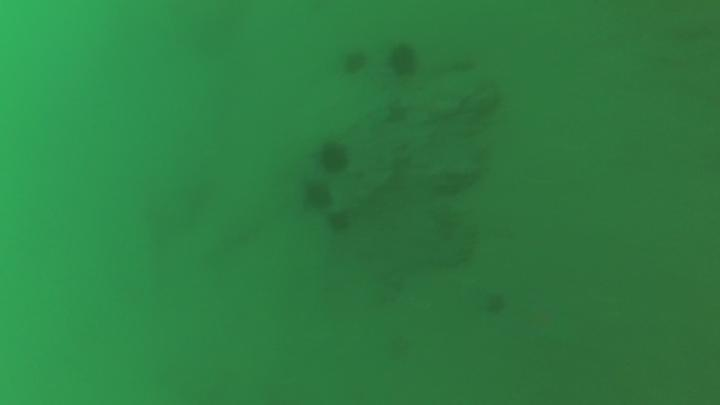echinus: (316, 140, 357, 177), (388, 42, 426, 79), (301, 180, 338, 215), (342, 48, 368, 77)
starfish: (382, 93, 417, 127)
